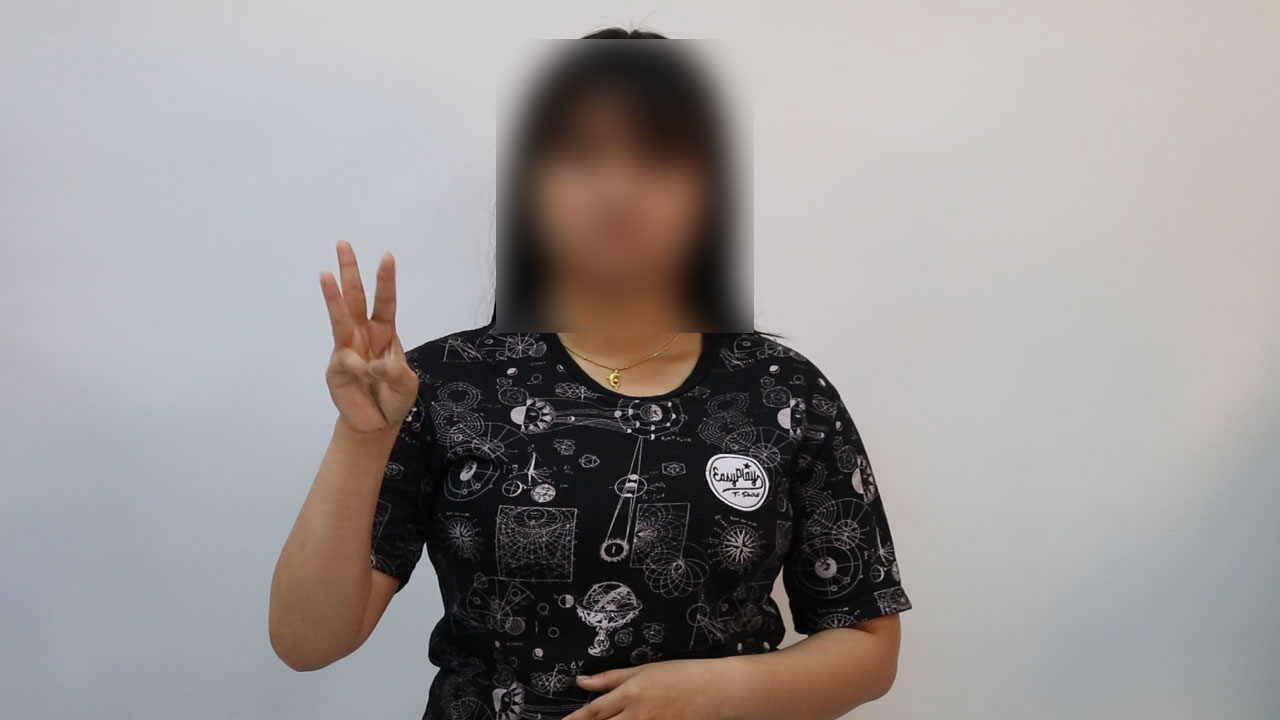wor: (307, 234, 423, 451)
